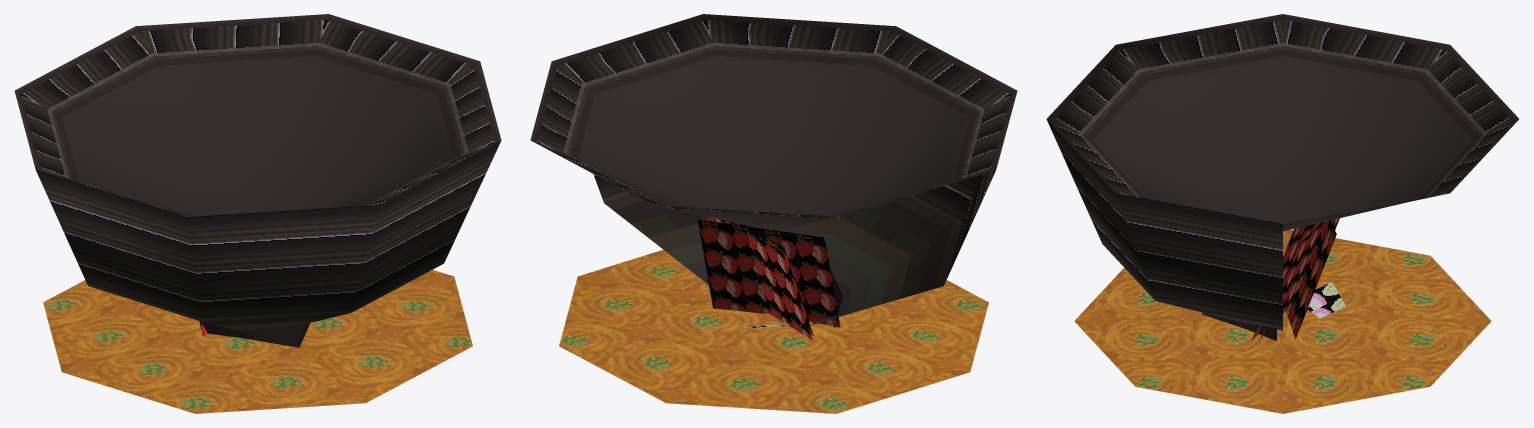
The model's file is 5576u_soba01_hs.gltf.
The picture shows the model from 3 angles, left to right: view 1: azimuth 30°, elevation 25°; view 2: azimuth 150°, elevation 25°; view 3: azimuth 270°, elevation 25°; orthographic projection. The views are drawn at different scales.
Visible parts, largest first — view 1: 5576u_soba01_hs; view 2: 5576u_soba01_hs; view 3: 5576u_soba01_hs.
Boxes of the visible parts, bbox=[...] form: 5576u_soba01_hs: bbox=[14, 14, 501, 413]; 5576u_soba01_hs: bbox=[530, 14, 1017, 413]; 5576u_soba01_hs: bbox=[1046, 14, 1518, 413].
Bounding box in the file's own units: 0.7798 × 0.416 × 0.7419.
5 materials, 5 textured.
